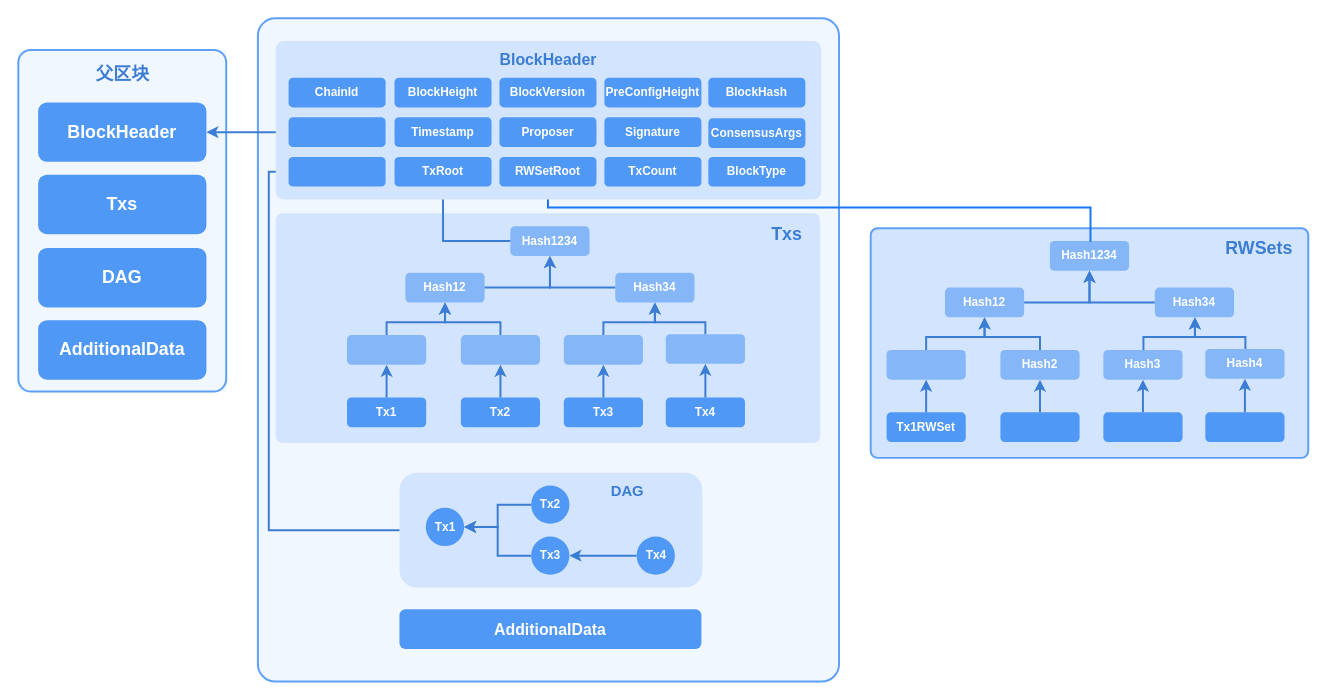
Some shapes in this 1326 by 699 pixel diagram are drawn without their labels. The shapes that lost their labels are listed below. From the top down, each one's centre as x and y in pixels, then its label:
At [336,132]: "PreBlockHash".
At [336,171]: "DAGHash".
At [386,349]: "Hash(Tx1)".
At [500,349]: "Hash(Tx2)".
At [603,349]: "Hash(Tx3)".
At [704,348]: "Hash(Tx4)".
At [925,364]: "Hash1".
At [1039,427]: "Tx2 RWSet".
At [1142,427]: "Tx3 RWSet".
At [1244,427]: "Tx4 RWSet".
